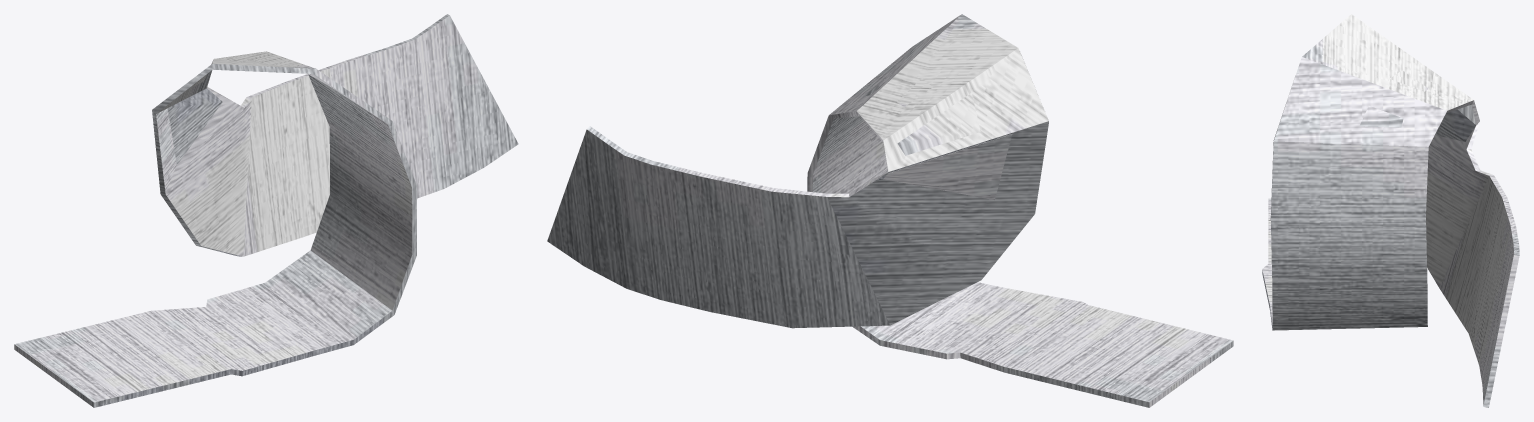
File: magnesium.fbx
The picture shows the model from 3 angles, left to right: view 1: azimuth 30°, elevation 25°; view 2: azimuth 150°, elevation 25°; view 3: azimuth 270°, elevation 25°; orthographic projection. The views are drawn at different scales.
Parts seen in each view (by area): view 1: pPlane2; view 2: pPlane2; view 3: pPlane2.
Part boxes in pixels (x1,y1,x2,y2): pPlane2: [14, 14, 518, 407]; pPlane2: [547, 14, 1233, 407]; pPlane2: [1262, 14, 1519, 407].
Bounding box in the file's own units: 2.91 × 1.44 × 1.25.
Materials: 1 (1 with a texture image).
